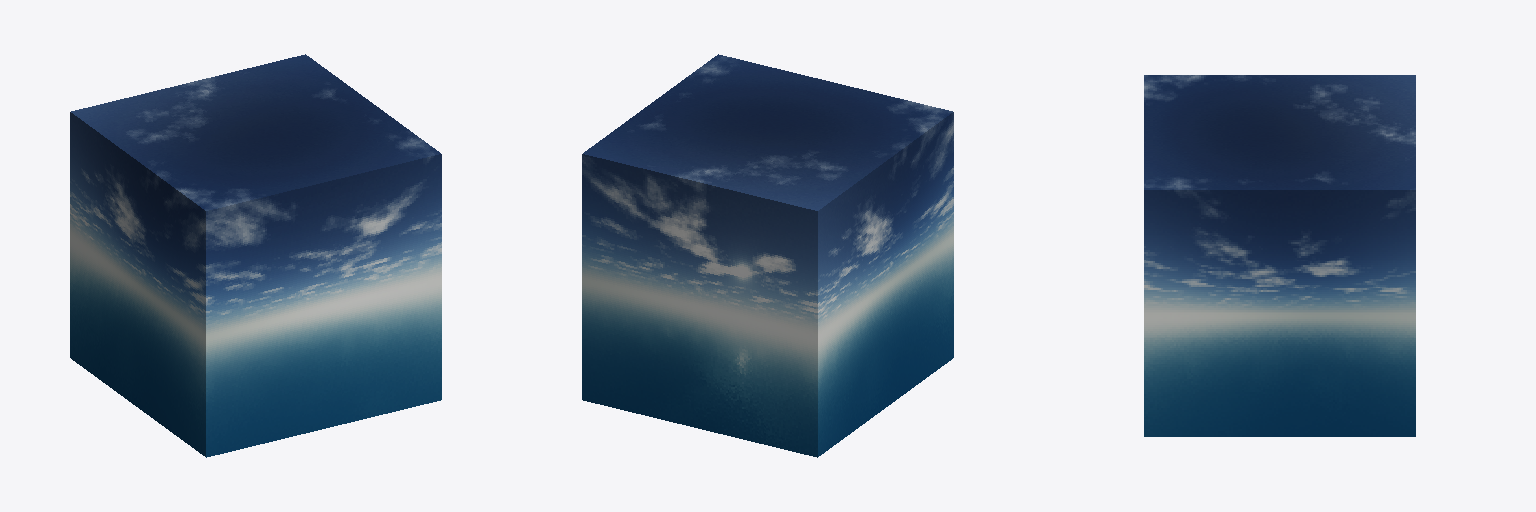
The picture shows the model from 3 angles: view 1: azimuth 30°, elevation 25°; view 2: azimuth 150°, elevation 25°; view 3: azimuth 270°, elevation 25°; orthographic projection.
Visible parts, largest first — view 1: Cube; view 2: Cube; view 3: Cube.
Part boxes in pixels (x1,y1,x2,y2): Cube: (70,54,441,457); Cube: (582,54,953,457); Cube: (1144,75,1415,436).
Bounding box in the file's own units: 2 × 2 × 2.
1 materials, 1 textured.